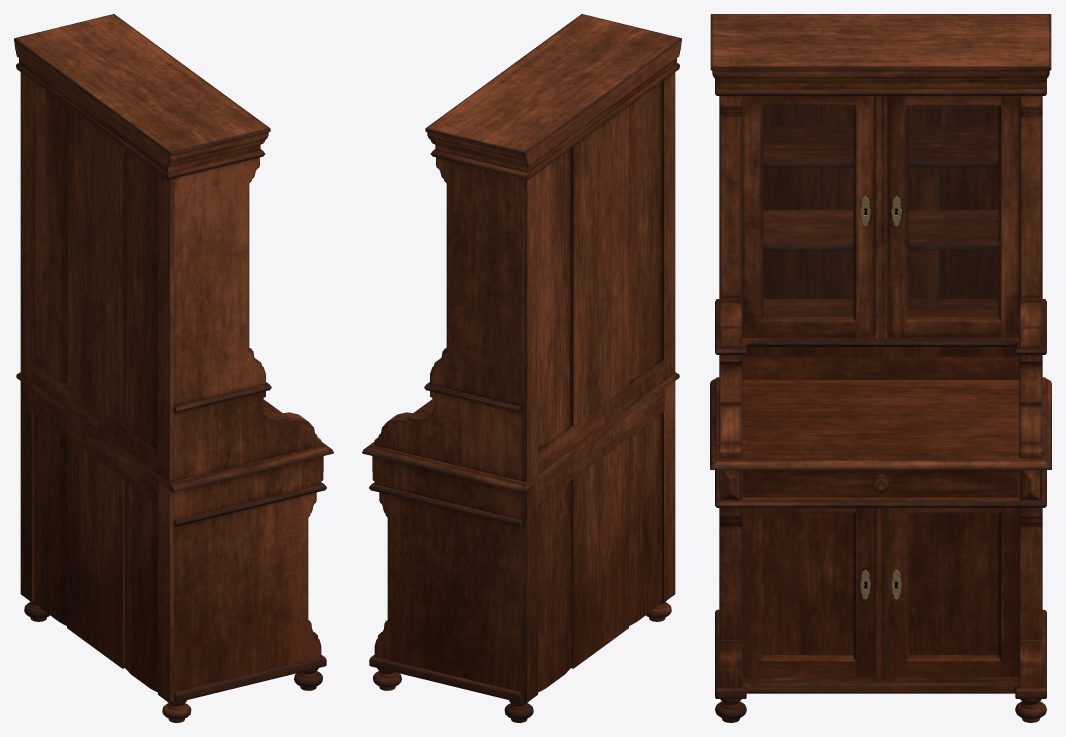
Rendered from antique_wardrobe.glb.
The picture shows the model from 3 angles, left to right: view 1: azimuth 30°, elevation 25°; view 2: azimuth 150°, elevation 25°; view 3: azimuth 270°, elevation 25°; orthographic projection. The views are drawn at different scales.
Visible parts, largest first — view 1: angtiqueWardrobe; view 2: angtiqueWardrobe; view 3: angtiqueWardrobe, glass.
Boxes of the visible parts, left/top/right/bottom form: angtiqueWardrobe: left=14, top=14, right=333, bottom=722; angtiqueWardrobe: left=362, top=14, right=681, bottom=722; angtiqueWardrobe: left=710, top=14, right=1051, bottom=722; glass: left=764, top=106, right=997, bottom=316.
Size of the model in its own units: 0.5451 by 1.84 by 0.9093.
2 materials, 1 textured.
